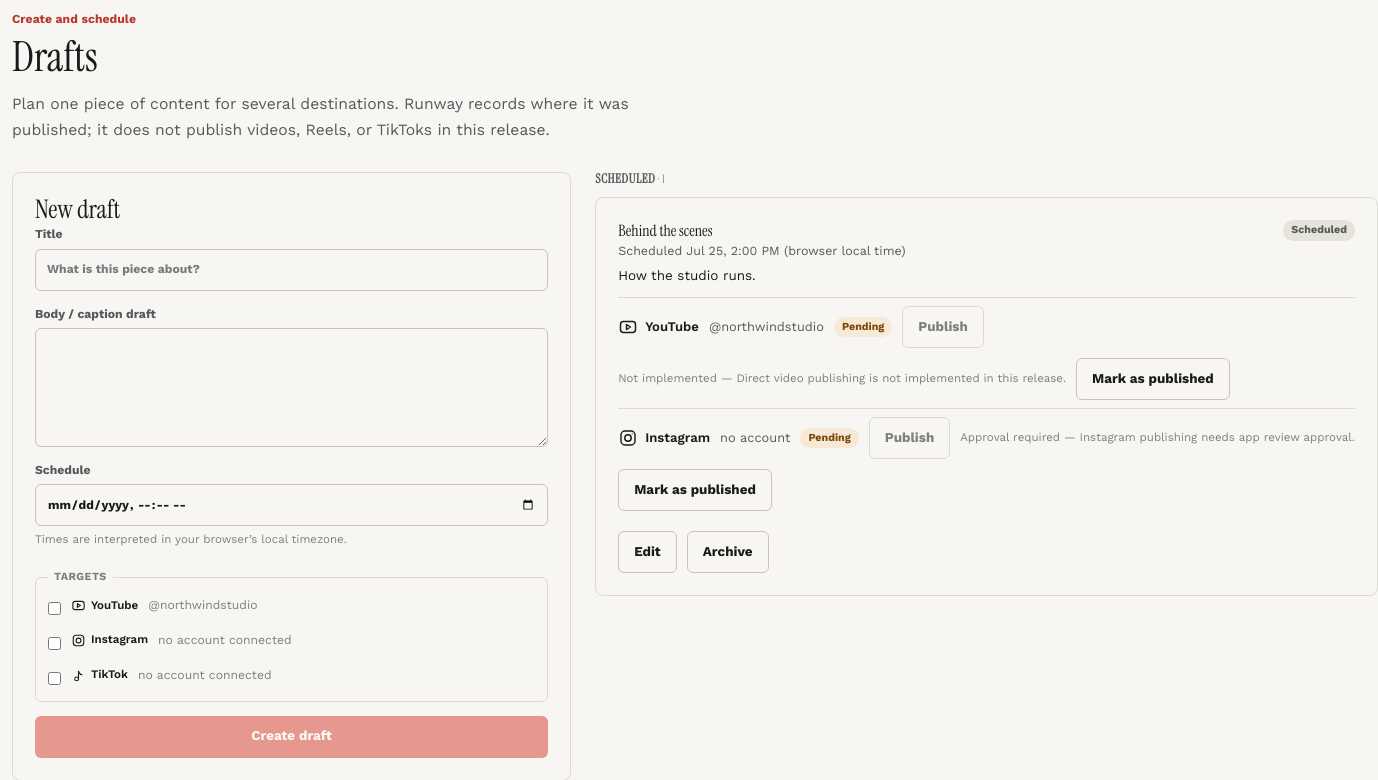
Test case: DraftsWorkspace › marks a target published through the URL + confirm flow
Click the 1st button "Mark as published": click(1153, 379) [1076, 358, 1230, 400]
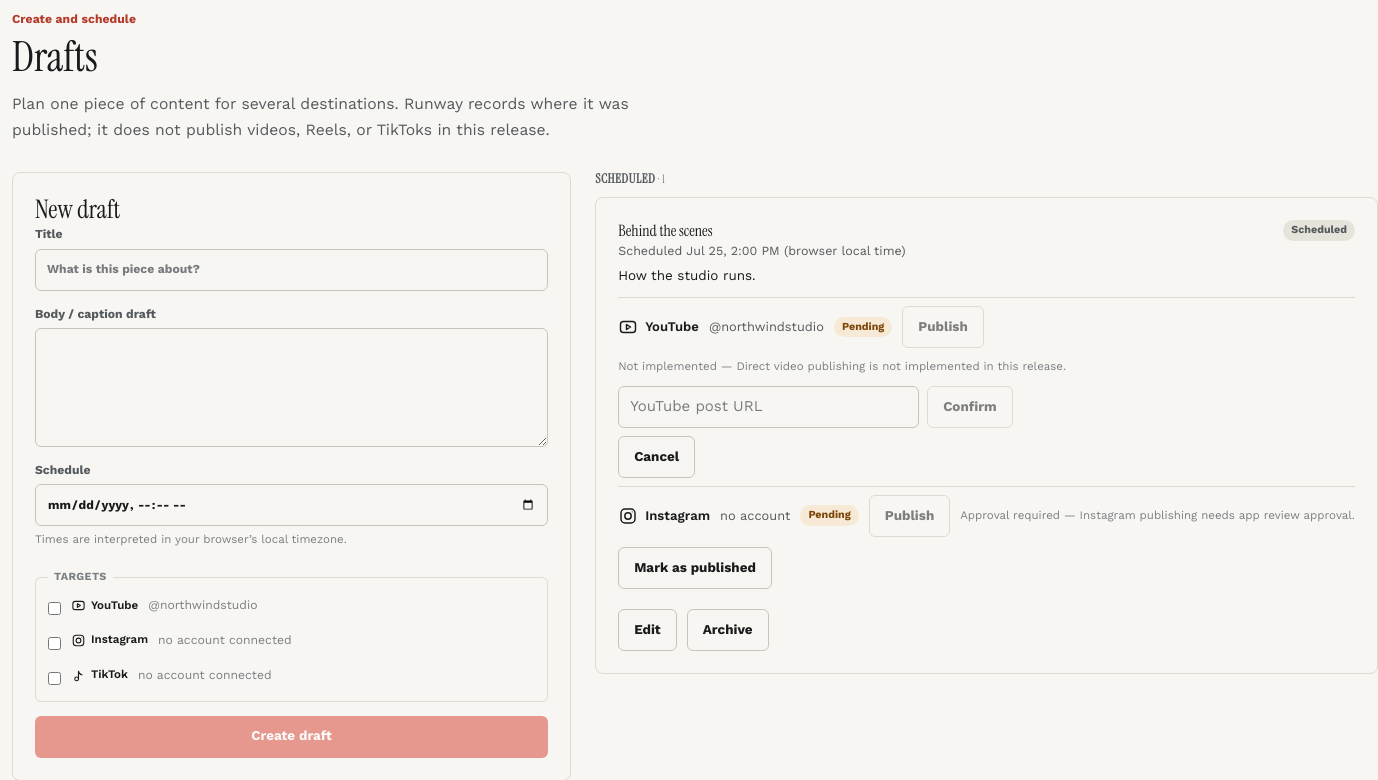
In the field with placeholder "YouTube post URL": (769, 407) [618, 386, 919, 428], type "https://youtu.be/abc12345"
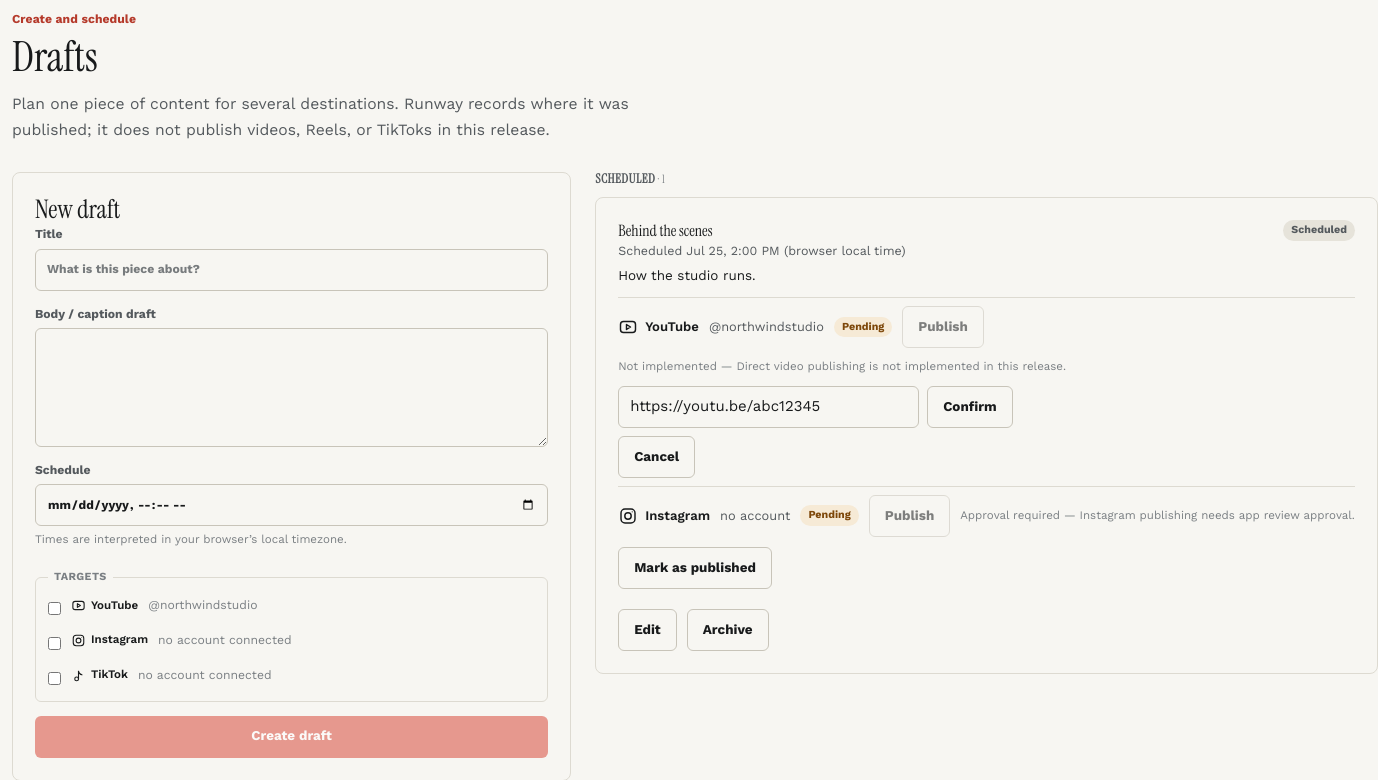
Click the button "Confirm": click(970, 407) [927, 386, 1013, 428]
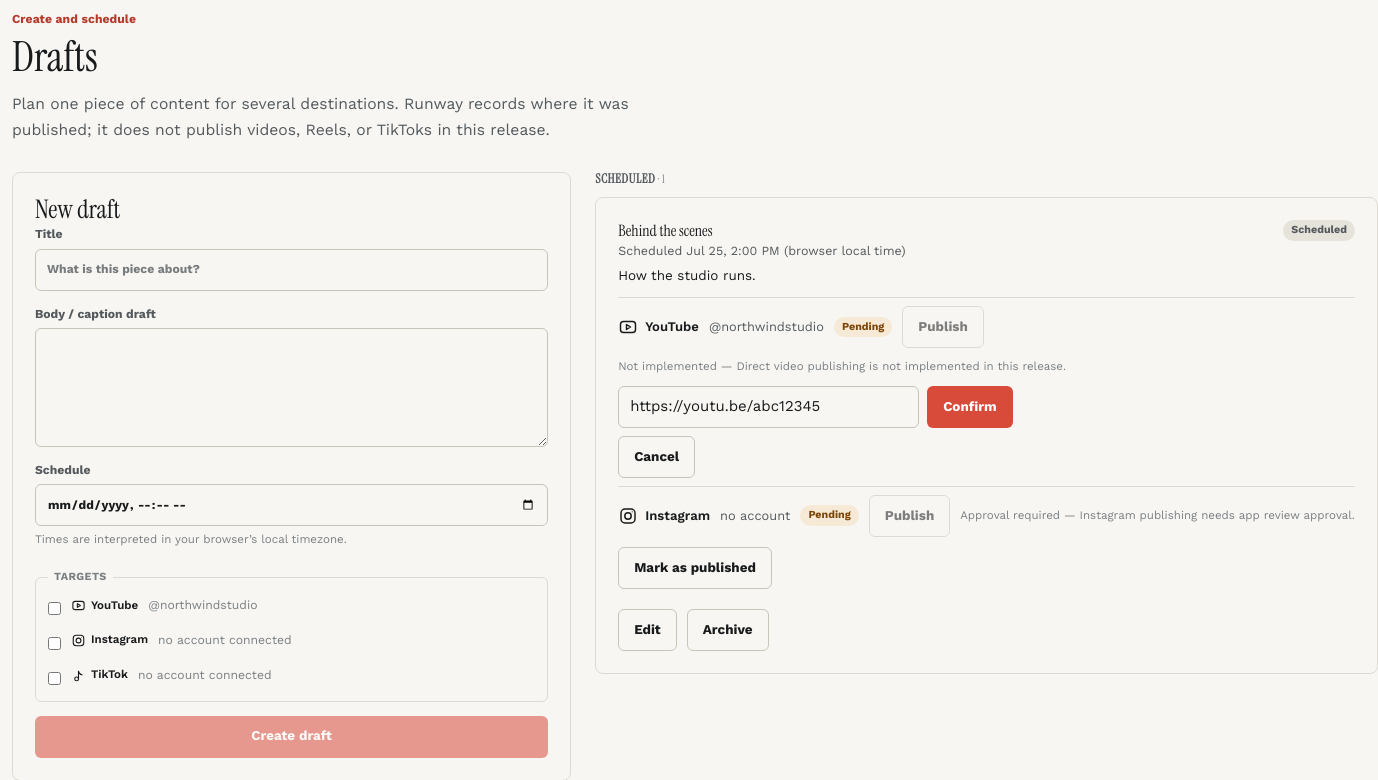
Click the button "Confirm": click(970, 407) [927, 386, 1013, 428]
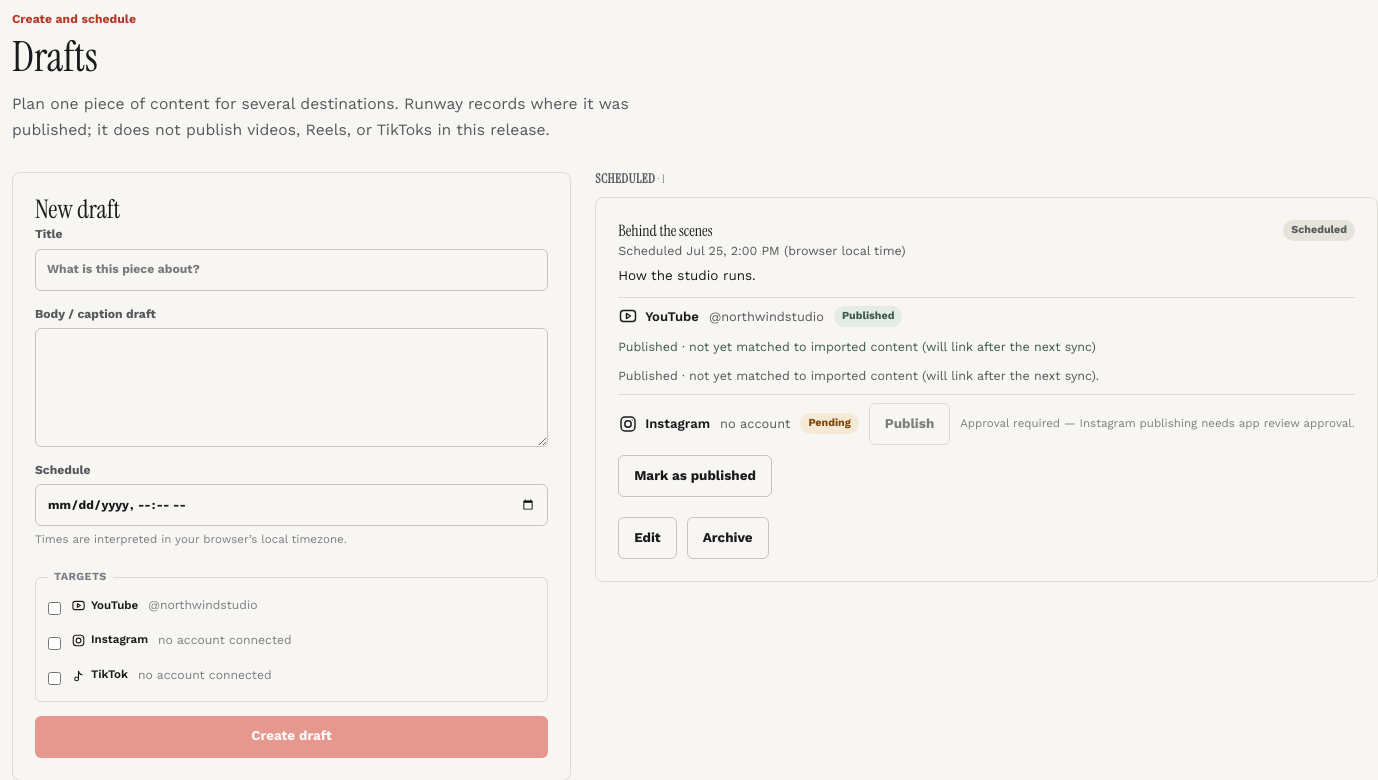
Expected: the text "not yet matched to imported content" is shown, [618, 339, 1096, 354]
